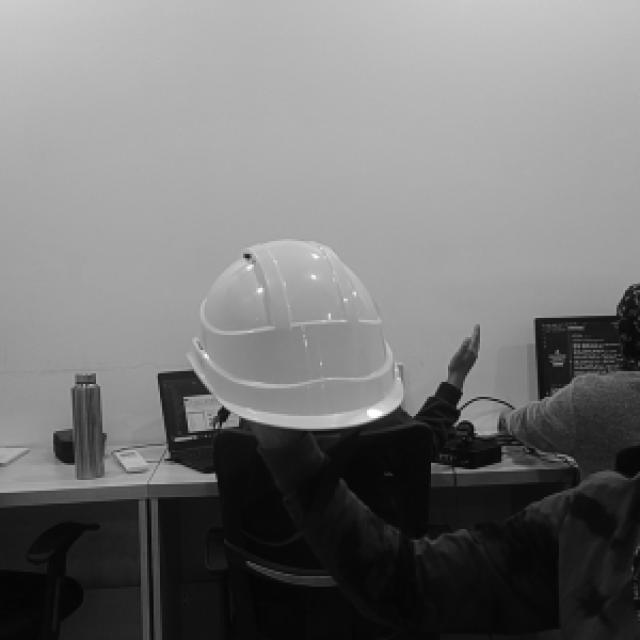safety_helmet: (187, 240, 406, 430)
